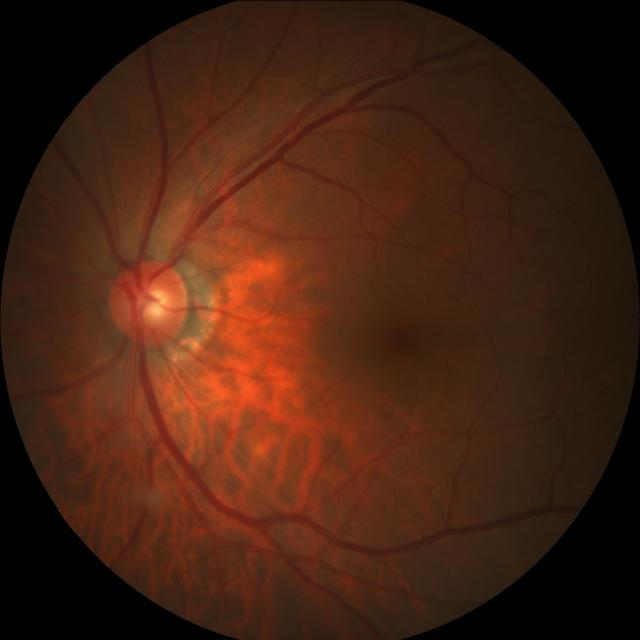OC: (139, 289, 171, 326)
OD: (110, 256, 190, 346)
